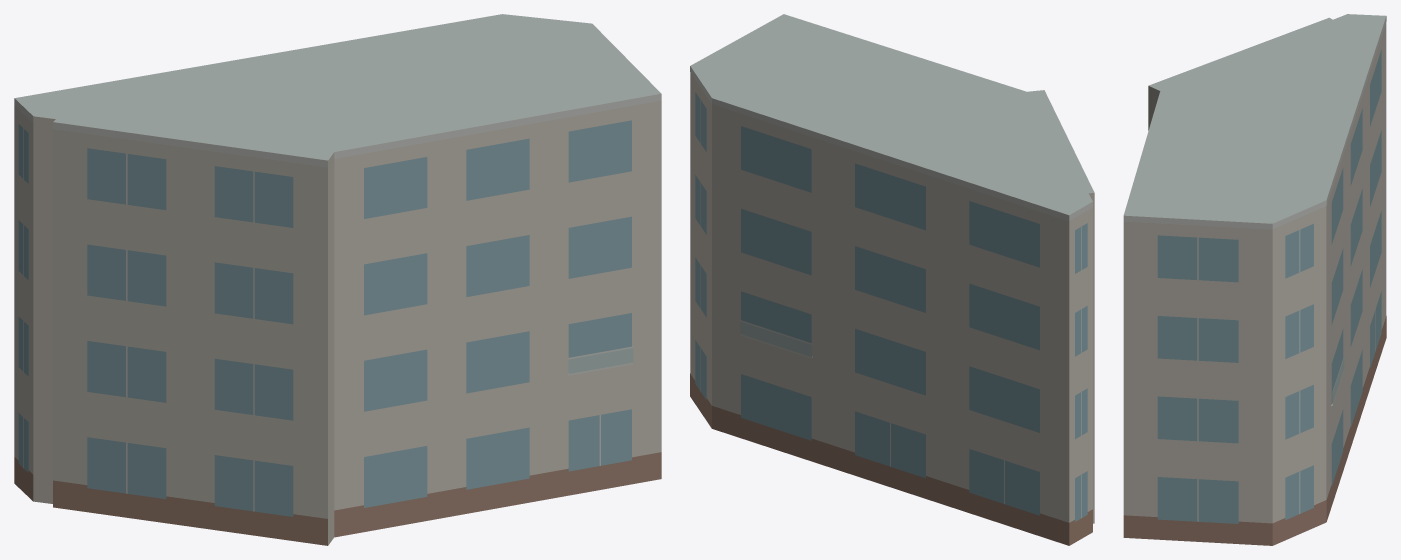
The model's file is survey-upis-32921733.glb.
3 views of the same model, side by side, from view 1: azimuth 30°, elevation 25°; view 2: azimuth 150°, elevation 25°; view 3: azimuth 270°, elevation 25° (orthographic). The views are drawn at different scales.
Parts seen in each view (by area): view 1: survey-upis-32921733.tmp; view 2: survey-upis-32921733.tmp; view 3: survey-upis-32921733.tmp.
Boxes of the visible parts, bbox=[...] form: survey-upis-32921733.tmp: bbox=[14, 14, 661, 545]; survey-upis-32921733.tmp: bbox=[690, 14, 1094, 545]; survey-upis-32921733.tmp: bbox=[1123, 14, 1386, 545].
Size of the model in its own units: 18.95 by 13.56 by 10.04.
